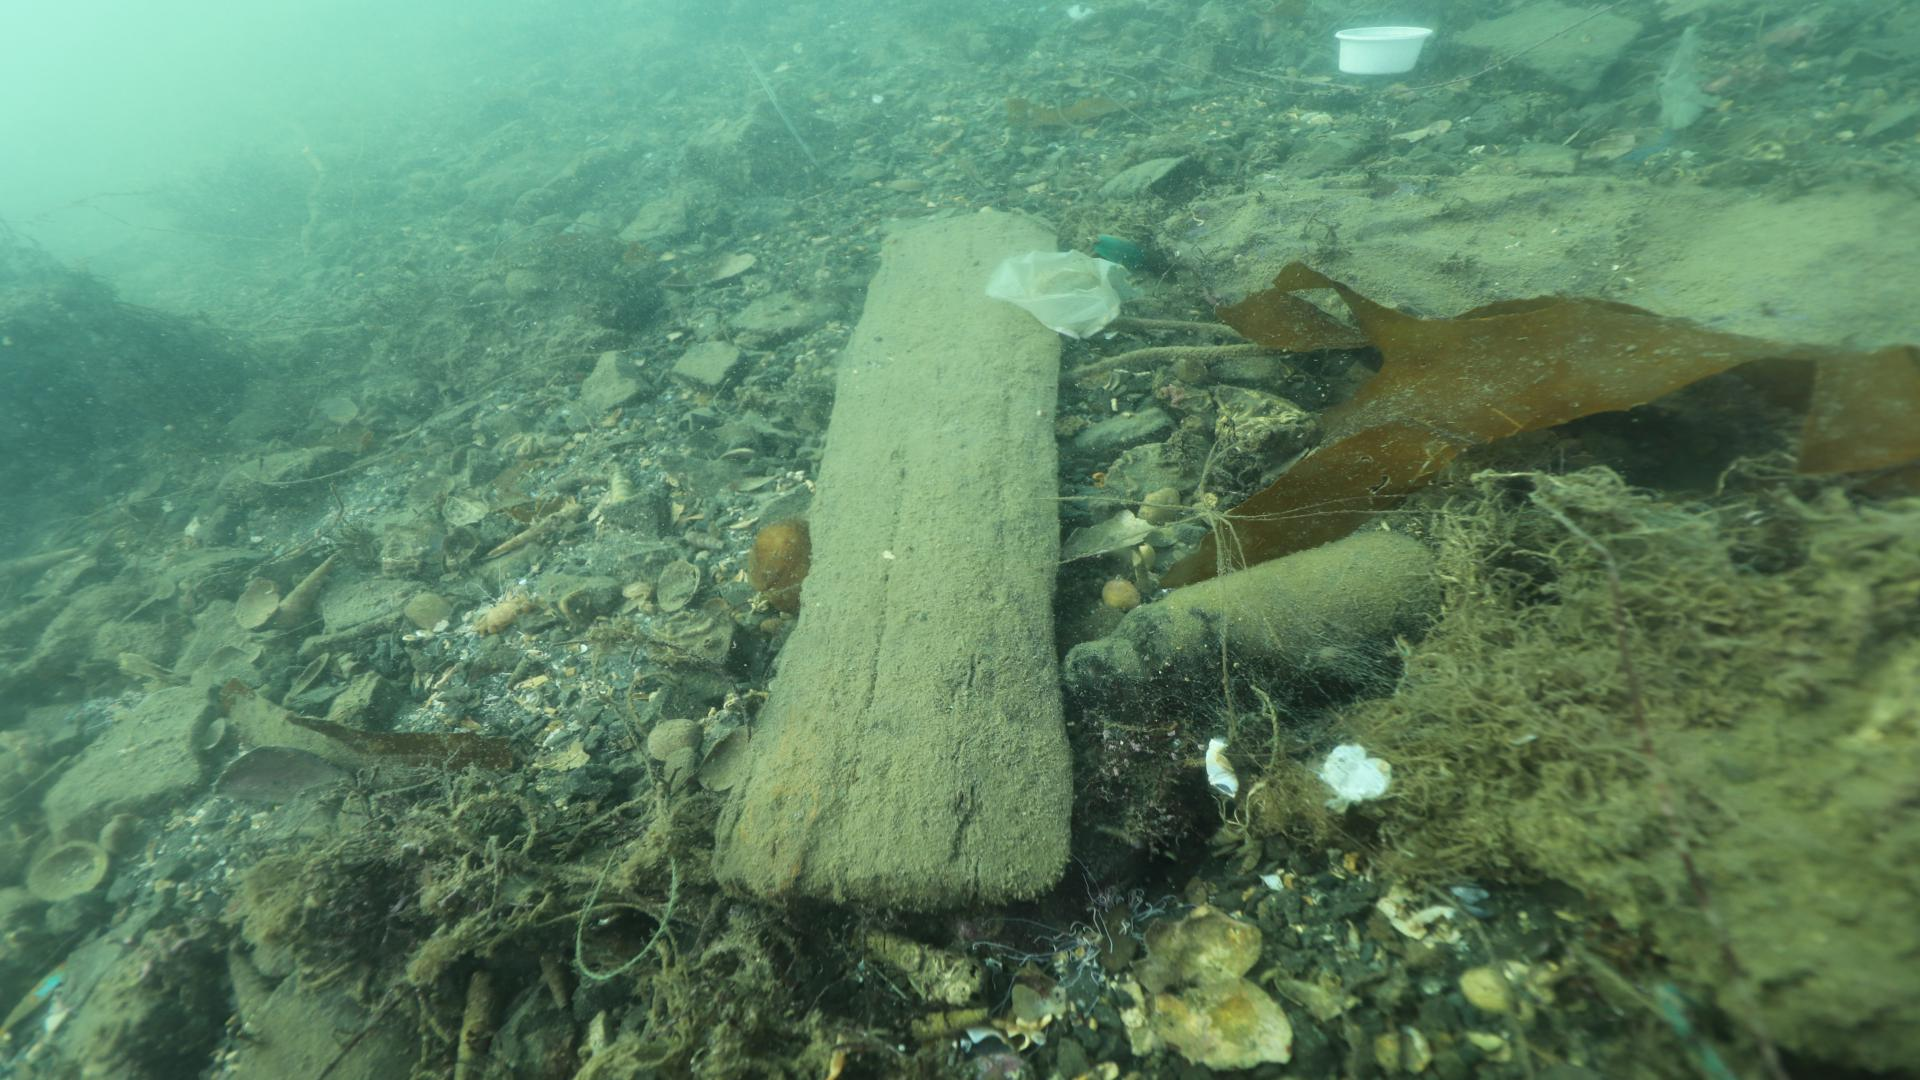wood: (705, 204, 1077, 920)
